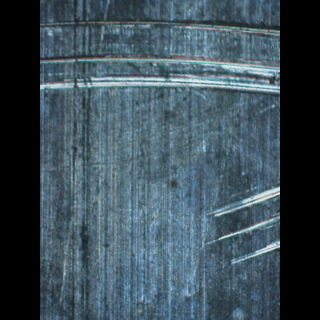d: (39, 15, 278, 102), (198, 175, 279, 281)
